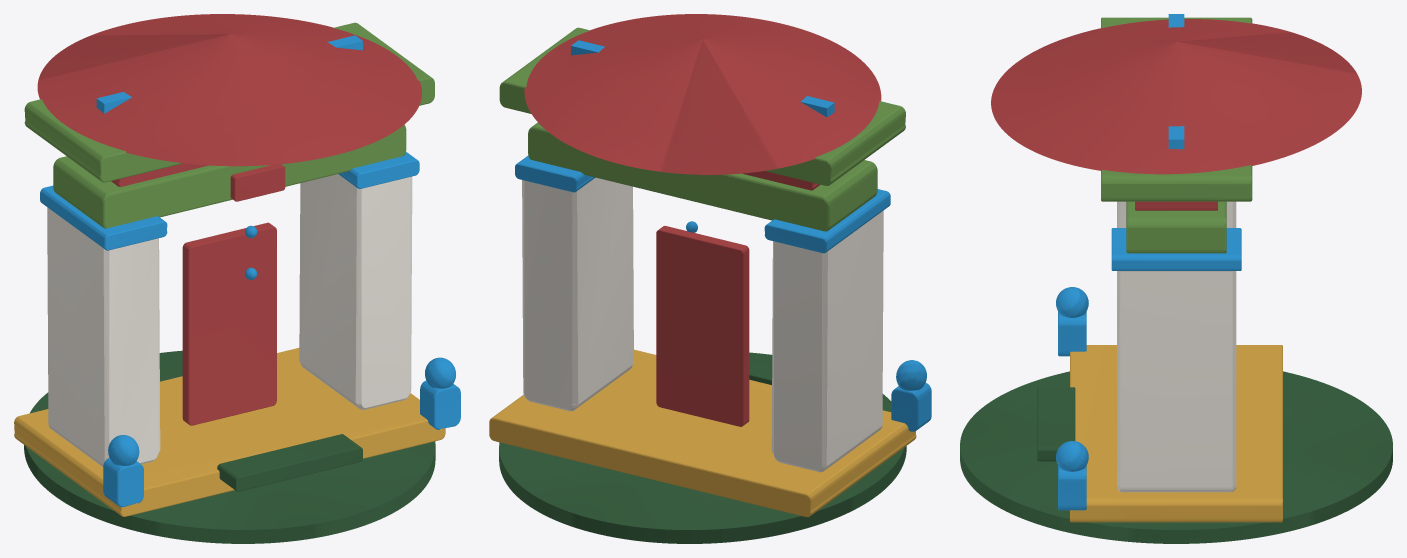
Rendered from 0907_故宫图鉴_乾清门.glb.
The picture shows the model from 3 angles, left to right: view 1: azimuth 30°, elevation 25°; view 2: azimuth 150°, elevation 25°; view 3: azimuth 270°, elevation 25°; orthographic projection.
Parts seen in each view (by area): view 1: card_0907; view 2: card_0907; view 3: card_0907.
Part boxes in pixels (left/top/right/bottom): card_0907: left=14, top=14, right=460, bottom=543; card_0907: left=489, top=14, right=931, bottom=543; card_0907: left=960, top=14, right=1392, bottom=543.
Bounding box in the file's own units: 0.8717 × 1 × 0.9398.
